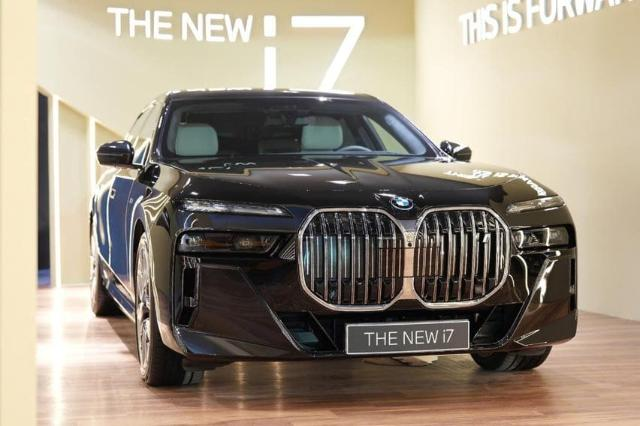bmw: (89, 87, 579, 389)
